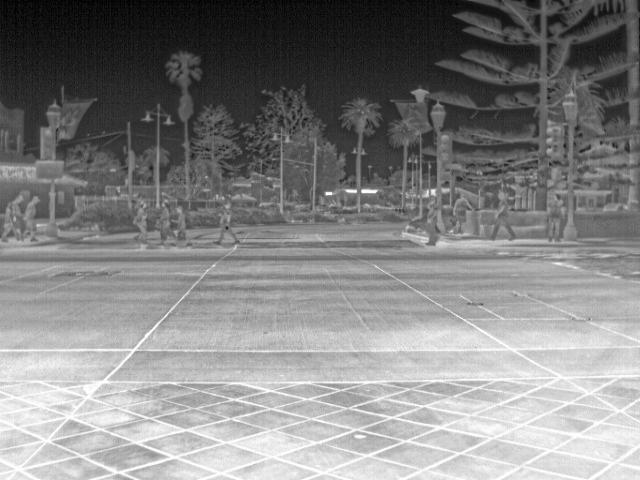person: (485, 193, 517, 241), (211, 202, 240, 246), (542, 191, 563, 242), (1, 195, 23, 238), (453, 193, 475, 230), (130, 202, 147, 244), (175, 206, 189, 246), (25, 194, 38, 237)
